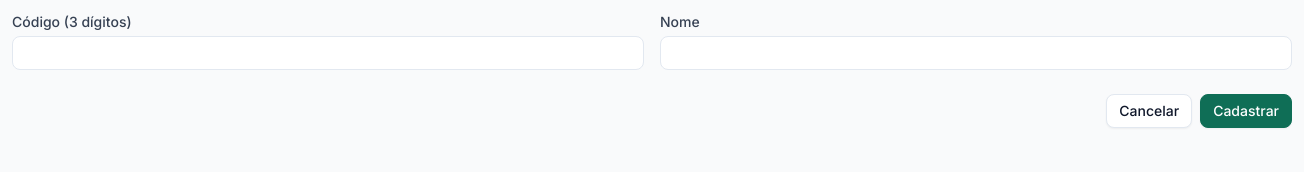
it: BankForm › exige código e nome ao submeter vazio
The width and height of the screenshot is (1304, 172).
Step 1. Click the button "Cadastrar" → (1246, 111), box [1200,94,1292,128]
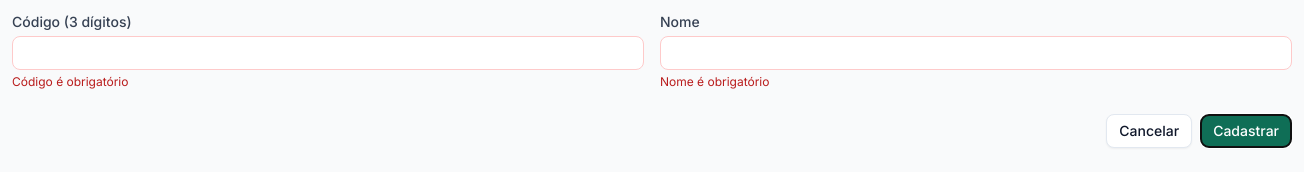
Expected: the text "Código é obrigatório" is shown, [12,74,128,89]
Expected: the text "Nome é obrigatório" is shown, [660,74,769,89]
